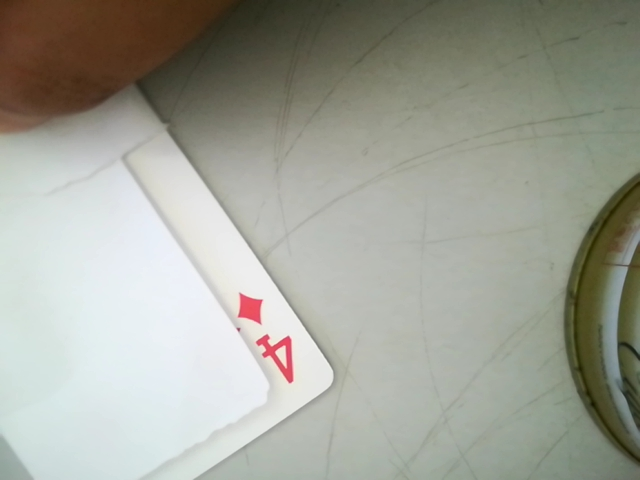fk 4: (218, 274, 308, 401)
